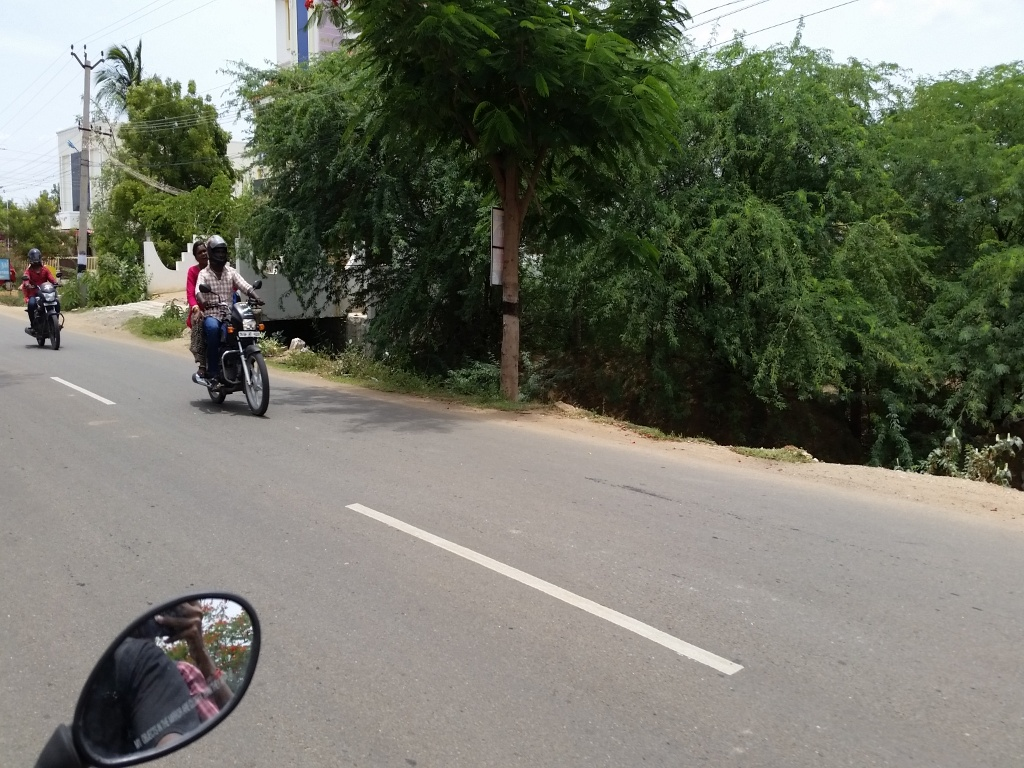biker: (176, 210, 291, 431), (13, 225, 80, 359)
helmet: (206, 226, 235, 275), (23, 245, 45, 269)
nohelmet: (190, 236, 210, 275)
